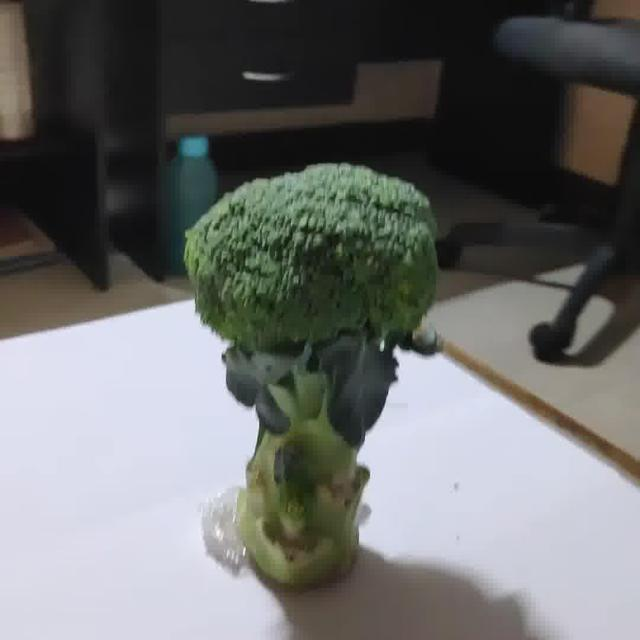Broccoli: (187, 163, 439, 587)
